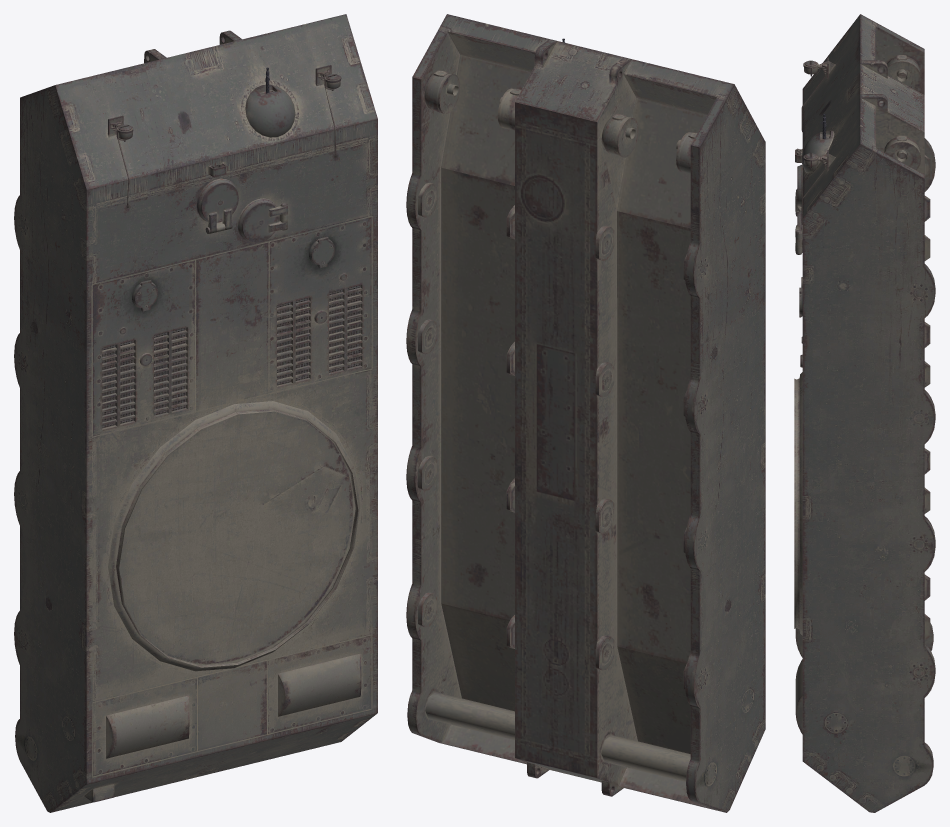
Rendered from Hull.glb.
3 views of the same model, side by side, from view 1: azimuth 30°, elevation 25°; view 2: azimuth 150°, elevation 25°; view 3: azimuth 270°, elevation 25° (orthographic). The views are drawn at different scales.
Visible parts, largest first — view 1: set_0_group_0; view 2: set_0_group_0; view 3: set_0_group_0.
Boxes of the visible parts, x1,y1,x2,y2 form: set_0_group_0: (14, 14, 377, 812); set_0_group_0: (406, 14, 765, 812); set_0_group_0: (794, 14, 935, 812).
Size of the model in its own units: 3.59 by 8.63 by 1.65.
1 material, 1 textured.
